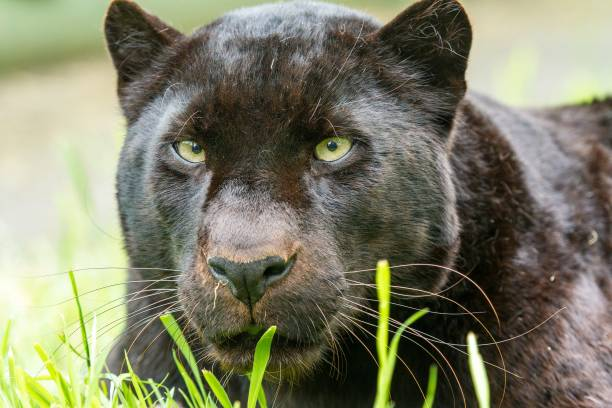panther: (93, 1, 513, 381)
